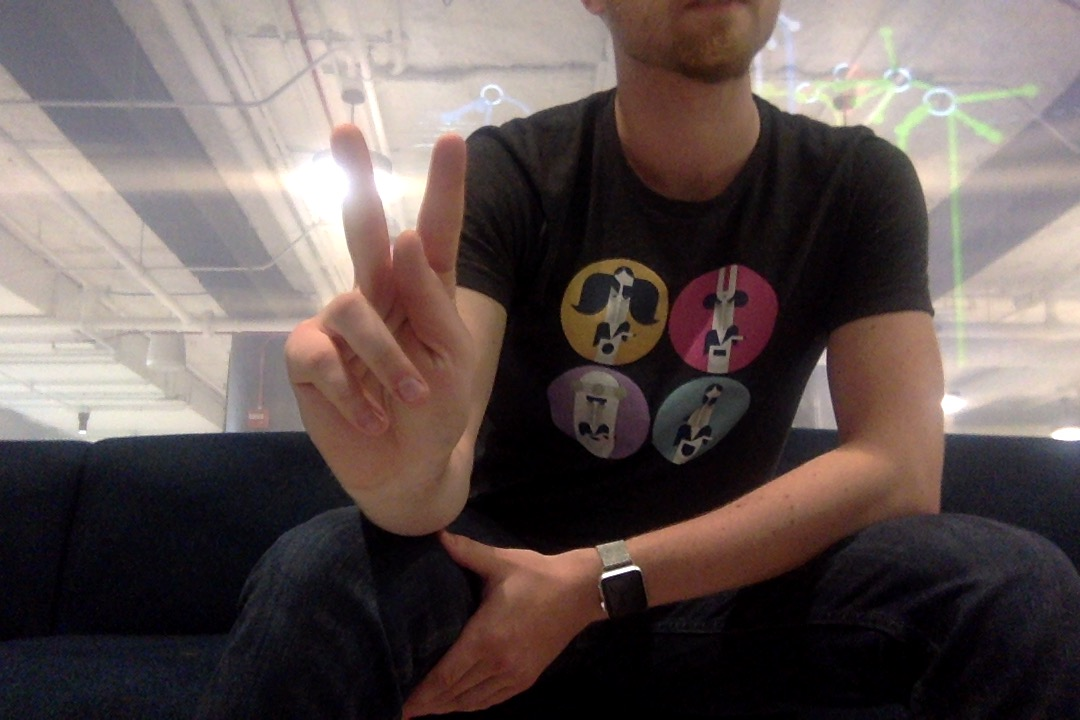k: (276, 117, 487, 482)
